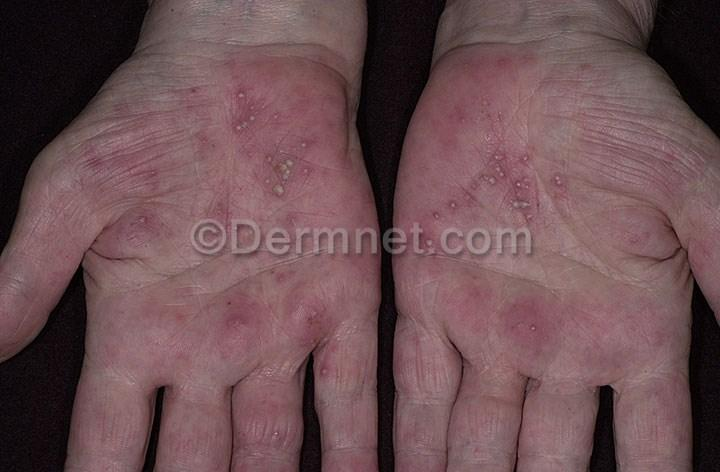Eczema: (537, 308, 604, 372), (609, 311, 673, 373), (488, 291, 545, 354), (569, 87, 628, 144), (166, 83, 250, 121), (411, 116, 487, 158), (529, 131, 577, 197), (188, 192, 246, 244), (564, 283, 625, 332), (236, 404, 298, 452), (28, 204, 75, 264), (544, 383, 595, 438), (234, 140, 288, 191), (506, 152, 544, 224), (438, 277, 491, 327), (619, 268, 675, 315), (224, 71, 266, 132), (299, 79, 350, 129), (80, 327, 124, 383), (347, 338, 377, 419), (531, 89, 587, 132), (256, 253, 305, 302), (106, 142, 169, 180), (584, 125, 634, 172), (173, 384, 226, 427), (633, 89, 676, 142), (421, 190, 487, 224), (397, 213, 452, 253), (50, 171, 96, 216), (405, 153, 444, 206), (348, 182, 380, 246), (122, 297, 183, 330), (443, 57, 493, 97), (167, 285, 211, 329), (477, 128, 527, 166), (470, 378, 515, 420), (416, 339, 455, 387), (126, 206, 170, 248), (394, 286, 433, 332), (396, 402, 433, 450), (79, 144, 115, 192), (256, 99, 298, 140), (224, 280, 266, 320), (650, 176, 690, 218), (296, 302, 350, 333), (270, 192, 307, 237), (458, 164, 514, 193), (680, 224, 716, 269), (448, 93, 505, 121), (190, 422, 231, 460), (254, 341, 296, 378), (269, 323, 320, 353), (464, 435, 505, 472), (607, 180, 649, 216), (486, 47, 523, 87), (584, 203, 621, 243), (154, 433, 196, 468), (219, 302, 259, 338), (654, 424, 690, 464), (653, 376, 677, 435), (316, 192, 354, 229), (351, 422, 379, 472), (110, 399, 151, 433), (334, 252, 376, 285), (285, 128, 321, 166), (262, 372, 301, 407), (230, 434, 274, 465), (211, 337, 252, 370), (194, 132, 239, 162), (615, 384, 650, 422), (169, 334, 211, 365), (619, 225, 661, 256), (644, 152, 687, 182), (317, 348, 343, 397), (619, 432, 653, 465), (544, 63, 570, 106), (317, 158, 351, 190), (544, 438, 574, 469), (359, 297, 382, 337), (217, 56, 249, 83), (19, 275, 73, 291), (136, 344, 162, 374), (573, 57, 602, 83), (418, 91, 447, 113), (197, 265, 228, 281), (702, 176, 720, 203), (328, 448, 345, 472), (329, 406, 344, 433)
